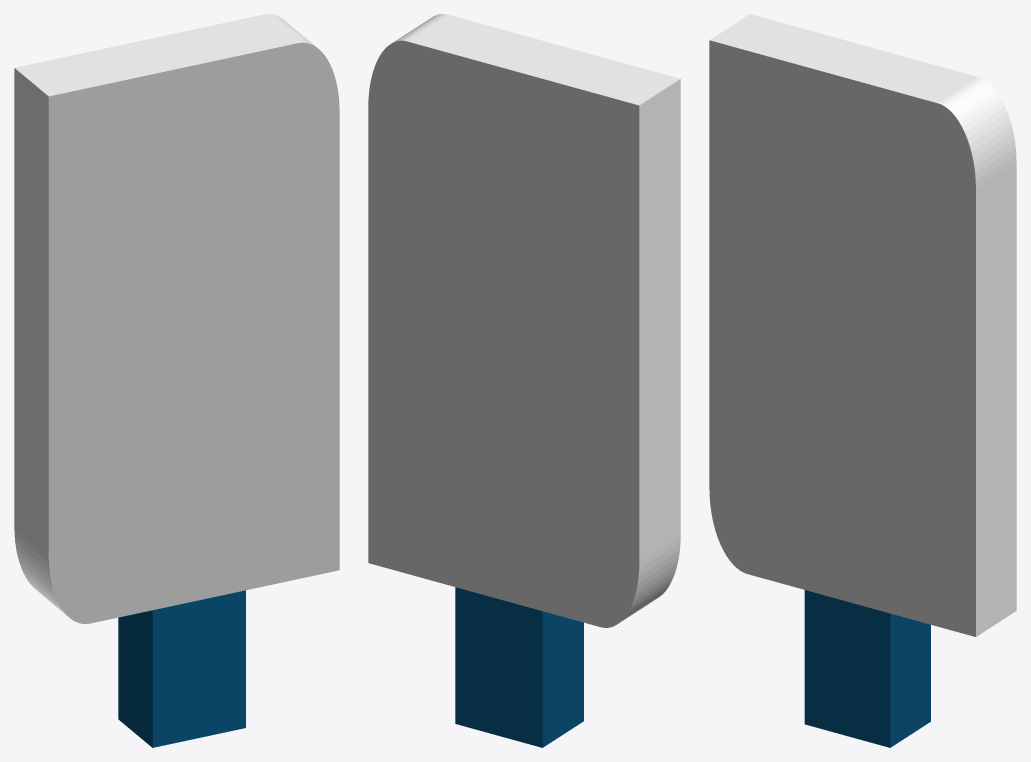
Rendered from signage.fbx.
The picture shows the model from 3 angles, left to right: view 1: azimuth 30°, elevation 25°; view 2: azimuth 150°, elevation 25°; view 3: azimuth 330°, elevation 25°; orthographic projection. The views are drawn at different scales.
Visible parts, largest first — view 1: Signage; view 2: Signage; view 3: Signage.
Boxes of the visible parts, left/top/right/bottom form: Signage: left=14, top=14, right=339, bottom=747; Signage: left=368, top=14, right=680, bottom=747; Signage: left=709, top=14, right=1016, bottom=747.
Bounding box in the file's own units: 84.53 × 191 × 24.06.
